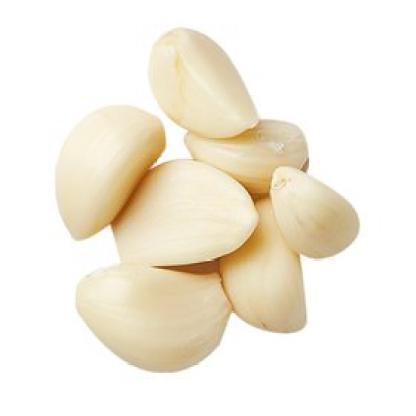garlic: (95, 140, 262, 258), (70, 251, 218, 370), (32, 100, 154, 228), (141, 15, 265, 140), (214, 202, 320, 343), (178, 114, 315, 186), (267, 156, 361, 256)
